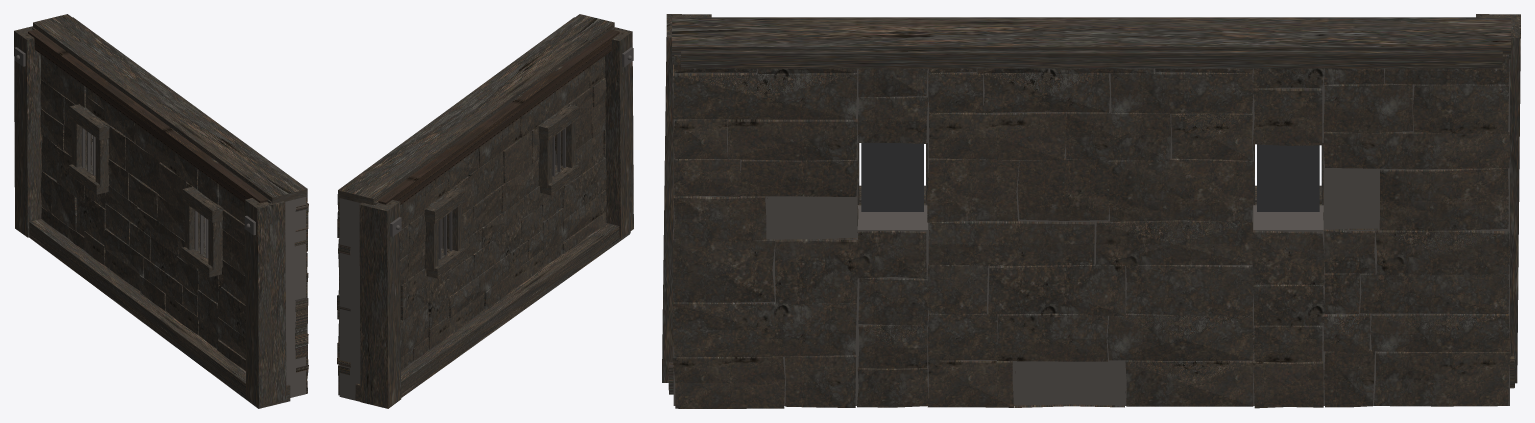
File: wall_left_preview.glb
The picture shows the model from 3 angles, left to right: view 1: azimuth 30°, elevation 25°; view 2: azimuth 150°, elevation 25°; view 3: azimuth 270°, elevation 25°; orthographic projection. The views are drawn at different scales.
Visible parts, largest first — view 1: GENESIS_BATCH_Quarry basalt / dark warm PBR, GENESIS_BATCH_Soot deposits - char and oxide, GENESIS_BATCH_Basalt - mineral warm variance, GENESIS_BATCH_Blackened ironstone coping / dark scanned, GENESIS_BATCH_Oak / fire seasoned PBR, GENESIS_BATCH_Recessed stone mortar / dark, GENESIS_BATCH_Oxidized forged iron; view 2: GENESIS_BATCH_Quarry basalt / dark warm PBR, GENESIS_BATCH_Soot deposits - char and oxide, GENESIS_BATCH_Blackened ironstone coping / dark scanned, GENESIS_BATCH_Basalt - mineral warm variance, GENESIS_BATCH_Oak / fire seasoned PBR, GENESIS_BATCH_Recessed stone mortar / dark, GENESIS_BATCH_Oxidized forged iron; view 3: GENESIS_BATCH_Quarry basalt / dark warm PBR, GENESIS_BATCH_Soot deposits - char and oxide, GENESIS_BATCH_Basalt - mineral warm variance, GENESIS_BATCH_Blackened ironstone coping / dark scanned, GENESIS_BATCH_Recessed stone mortar / dark, GENESIS_BATCH_Blacksmith · soot-stained grille backgroun.
Part boxes in pixels (x1=…): GENESIS_BATCH_Quarry basalt / dark warm PBR: x1=14, y1=26, x2=308, y2=408; GENESIS_BATCH_Soot deposits - char and oxide: x1=40, y1=54, x2=308, y2=370; GENESIS_BATCH_Basalt - mineral warm variance: x1=56, y1=104, x2=308, y2=406; GENESIS_BATCH_Blackened ironstone coping / dark scanned: x1=33, y1=14, x2=307, y2=203; GENESIS_BATCH_Oak / fire seasoned PBR: x1=28, y1=29, x2=268, y2=203; GENESIS_BATCH_Recessed stone mortar / dark: x1=91, y1=135, x2=305, y2=397; GENESIS_BATCH_Oxidized forged iron: x1=14, y1=47, x2=255, y2=258; GENESIS_BATCH_Quarry basalt / dark warm PBR: x1=337, y1=27, x2=630, y2=408; GENESIS_BATCH_Soot deposits - char and oxide: x1=337, y1=53, x2=606, y2=349; GENESIS_BATCH_Blackened ironstone coping / dark scanned: x1=338, y1=14, x2=614, y2=205; GENESIS_BATCH_Basalt - mineral warm variance: x1=337, y1=27, x2=633, y2=320; GENESIS_BATCH_Oak / fire seasoned PBR: x1=377, y1=29, x2=619, y2=204; GENESIS_BATCH_Recessed stone mortar / dark: x1=339, y1=150, x2=556, y2=401; GENESIS_BATCH_Oxidized forged iron: x1=390, y1=47, x2=633, y2=259; GENESIS_BATCH_Quarry basalt / dark warm PBR: x1=668, y1=14, x2=1520, y2=408; GENESIS_BATCH_Soot deposits - char and oxide: x1=673, y1=64, x2=1510, y2=406; GENESIS_BATCH_Basalt - mineral warm variance: x1=662, y1=14, x2=1509, y2=382; GENESIS_BATCH_Blackened ironstone coping / dark scanned: x1=672, y1=17, x2=1511, y2=68; GENESIS_BATCH_Recessed stone mortar / dark: x1=673, y1=59, x2=1509, y2=405; GENESIS_BATCH_Blacksmith · soot-stained grille backgroun: x1=861, y1=143, x2=1319, y2=211.
Size of the model in its own units: 0.986 by 3.3 by 7.07.
8 materials, 5 textured.
